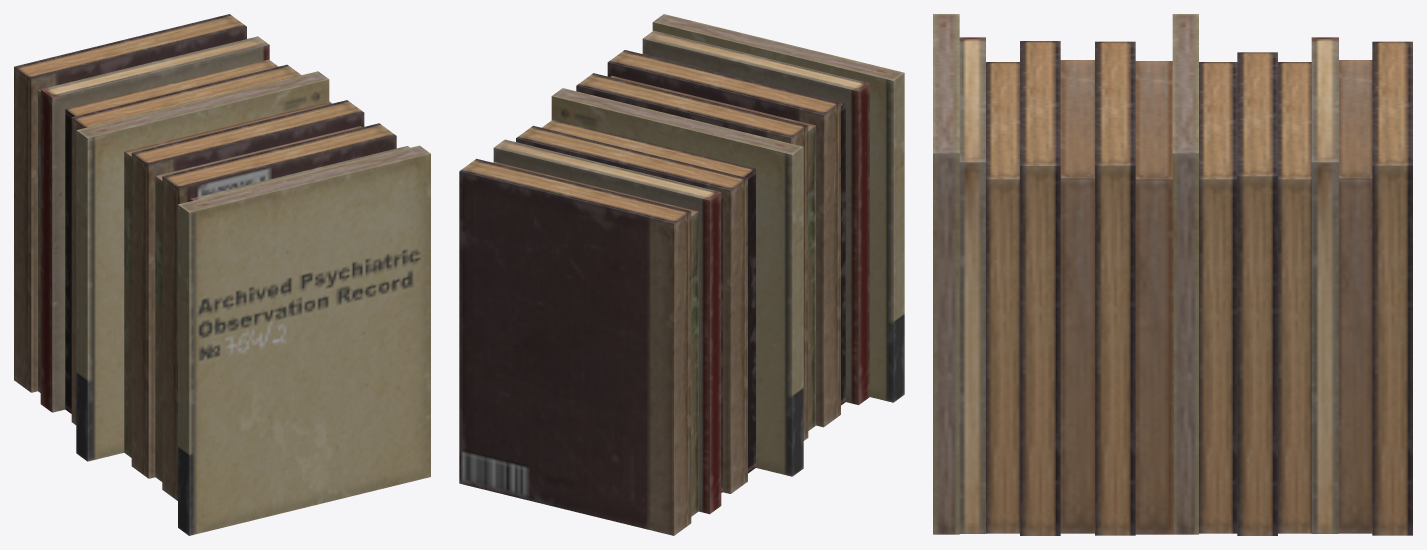
File: HH_Stacked_Books_02.fbx
3 renders of one model, left to right at view 1: azimuth 30°, elevation 25°; view 2: azimuth 150°, elevation 25°; view 3: azimuth 270°, elevation 25°, orthographic. The views are drawn at different scales.
Visible parts, largest first — view 1: HH_Stacked_Books_02; view 2: HH_Stacked_Books_02; view 3: HH_Stacked_Books_02.
Boxes of the visible parts, bbox=[...] form: HH_Stacked_Books_02: bbox=[14, 14, 430, 535]; HH_Stacked_Books_02: bbox=[459, 14, 904, 535]; HH_Stacked_Books_02: bbox=[933, 14, 1412, 535].
Size of the model in its own units: 21.06 by 26.63 by 30.37.
